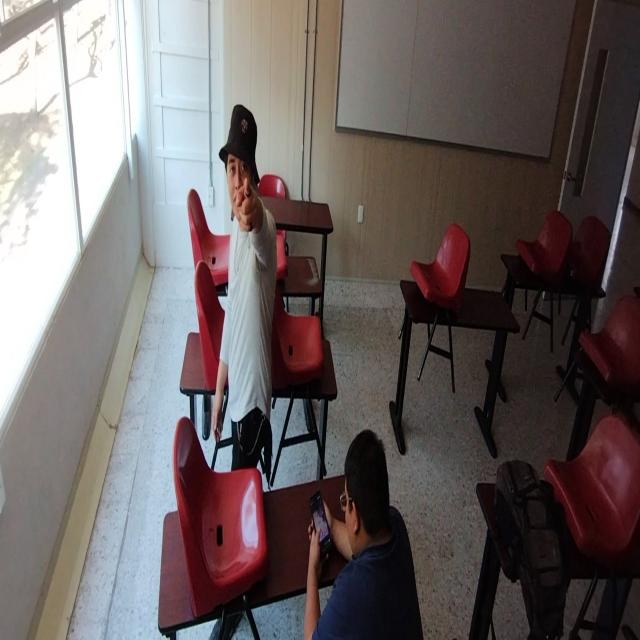adult: (304, 425, 424, 640), (213, 101, 277, 469)
